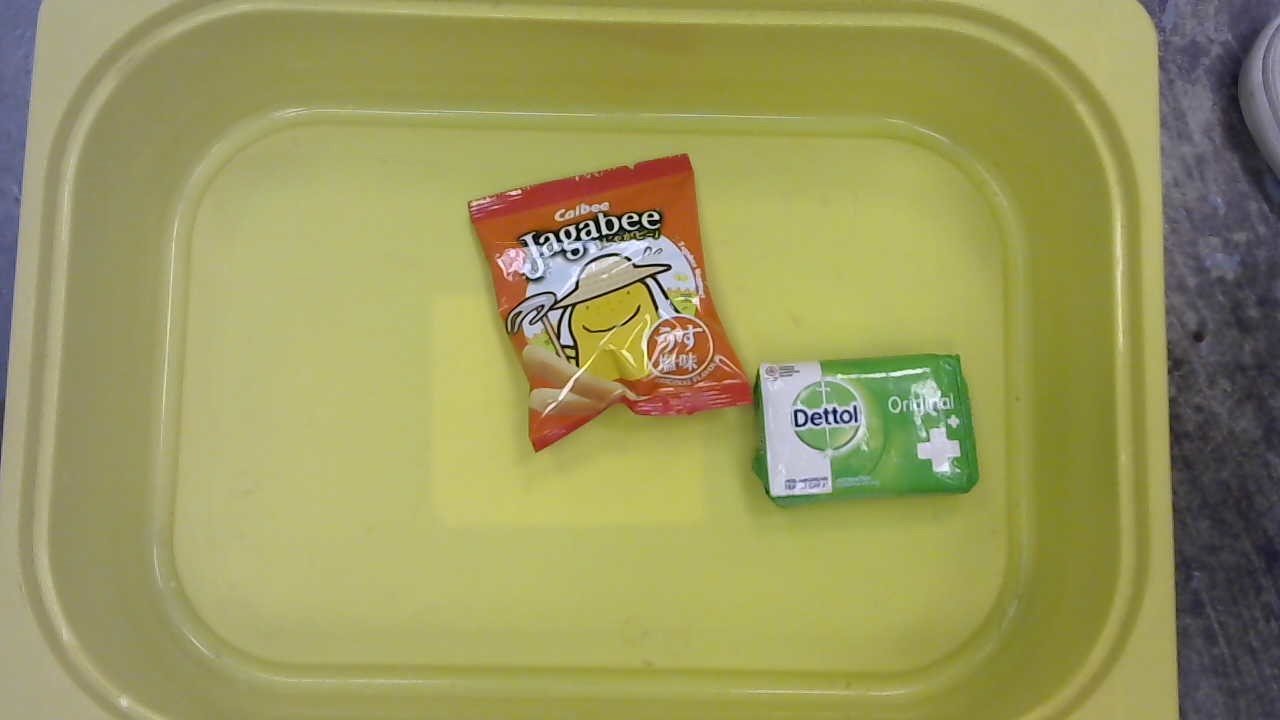Dettol: (751, 351, 986, 512)
JagabeeFarmer: (458, 149, 752, 452)
